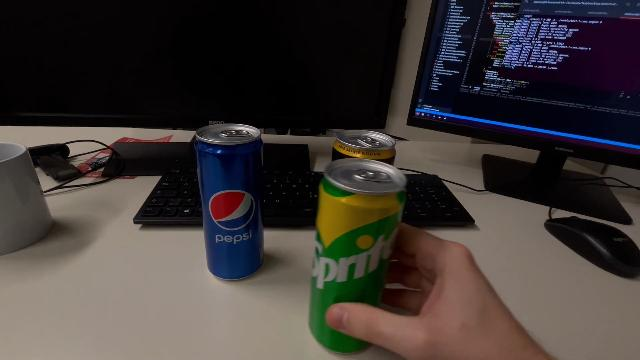OranSoda: (330, 126, 398, 168)
Pepsi: (192, 122, 266, 284)
Sprite: (308, 156, 408, 358)
